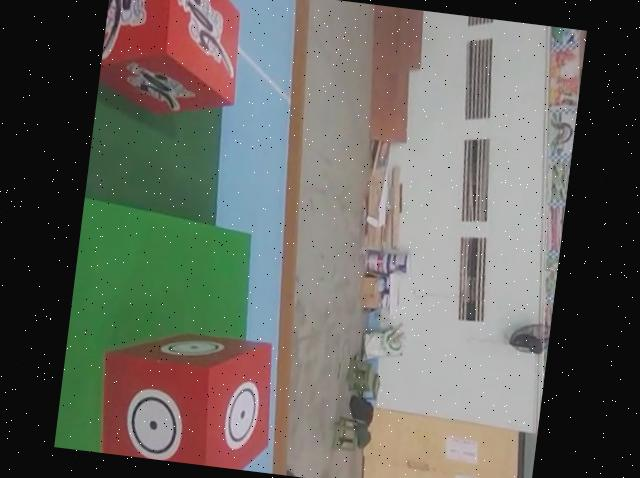R1: (95, 0, 250, 127)
R2 Real: (90, 319, 284, 474)
